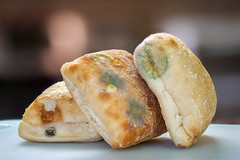mold_bread: (133, 38, 171, 80), (99, 69, 128, 96), (123, 97, 150, 126), (88, 50, 112, 63), (43, 124, 57, 138)
